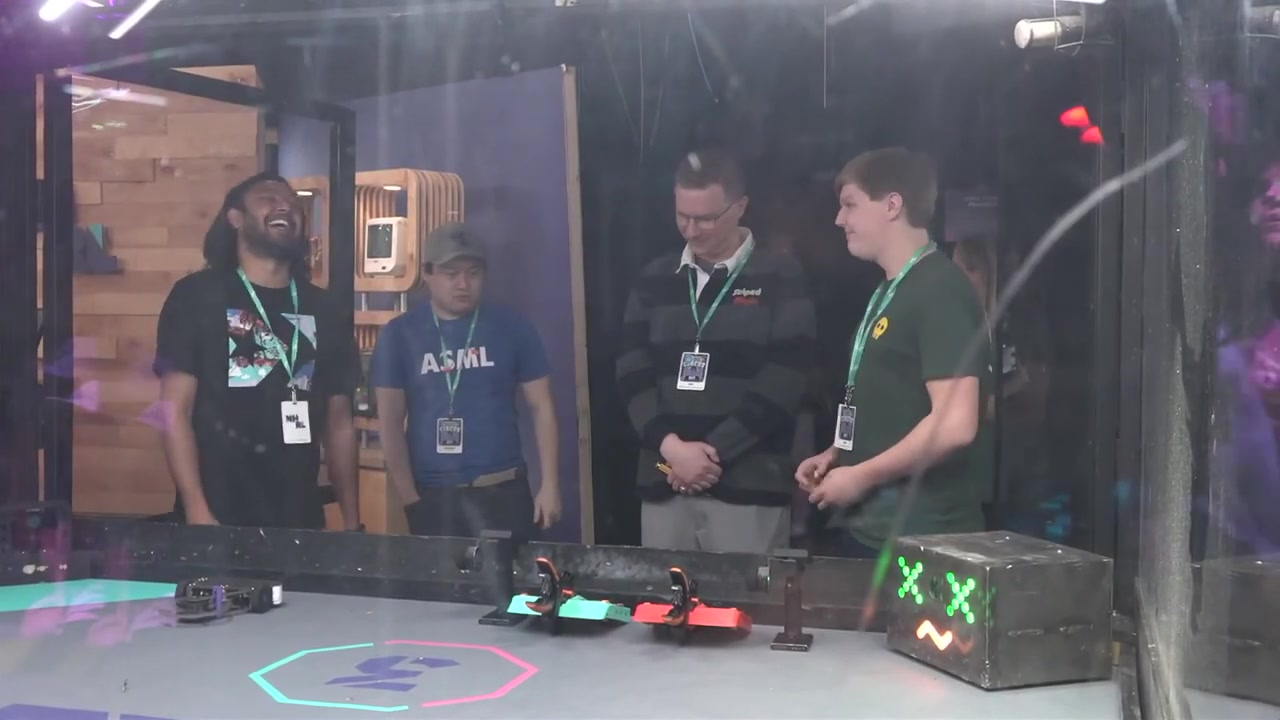combatbot: (502, 587, 753, 632), (167, 575, 287, 625)
housebot: (883, 529, 1114, 691)
